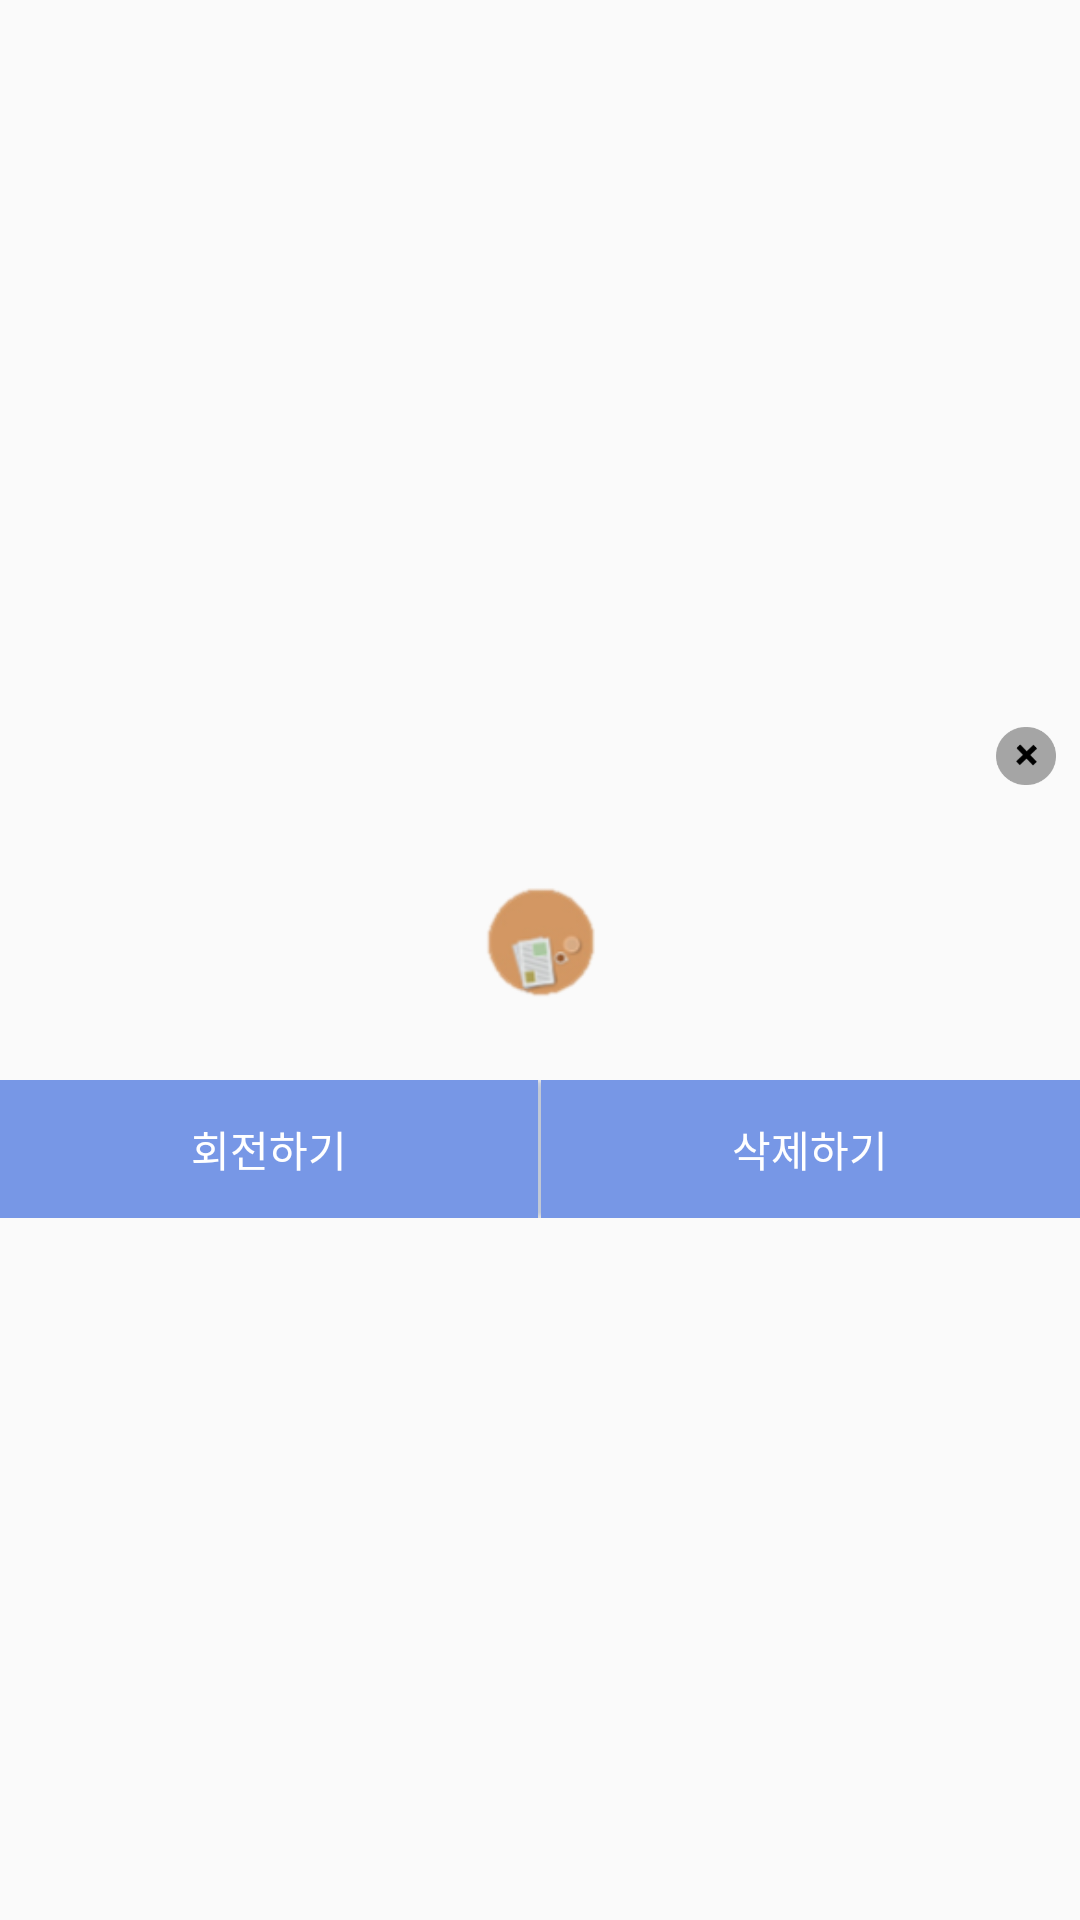

Icon click points for this 1080px×1920px phone screenshot, format (x=x, y=y):
delete: (x=1026, y=756)
